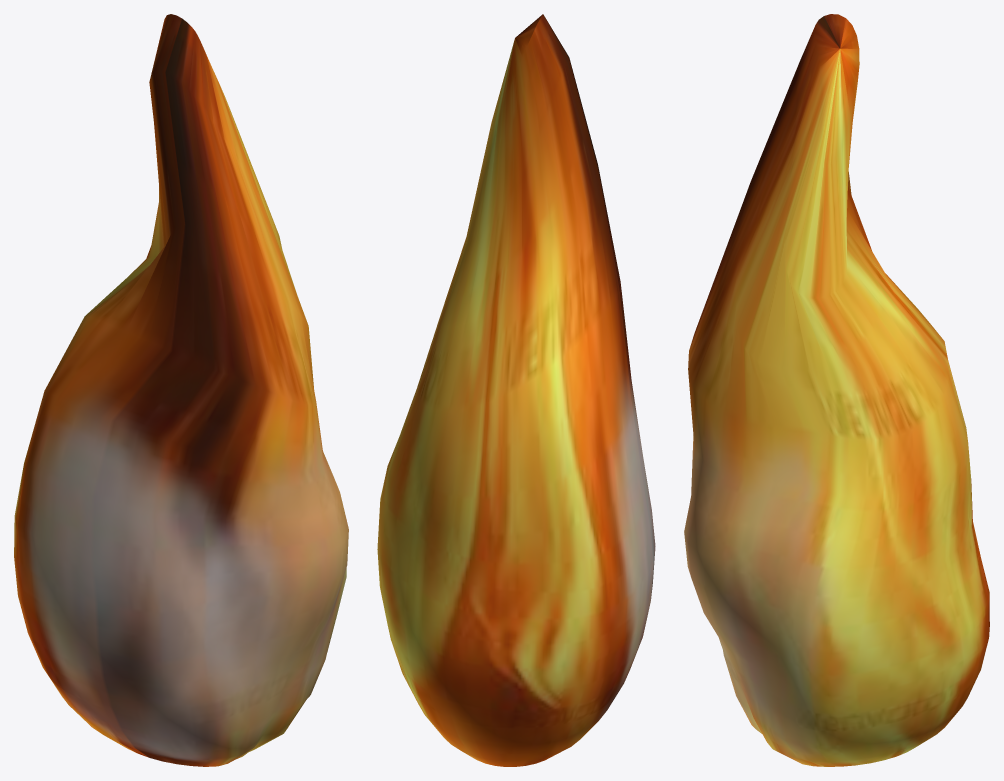
File: fire.gltf
3 views of the same model, side by side, from view 1: azimuth 30°, elevation 25°; view 2: azimuth 150°, elevation 25°; view 3: azimuth 270°, elevation 25° (orthographic). The views are drawn at different scales.
Parts seen in each view (by area): view 1: Sphere; view 2: Sphere; view 3: Sphere.
Boxes of the visible parts, bbox=[...] form: Sphere: bbox=[14, 14, 348, 766]; Sphere: bbox=[377, 14, 655, 766]; Sphere: bbox=[684, 14, 989, 766].
Size of the model in its own units: 0.2415 by 0.6289 by 0.2376.
Materials: 1 (1 with a texture image).
